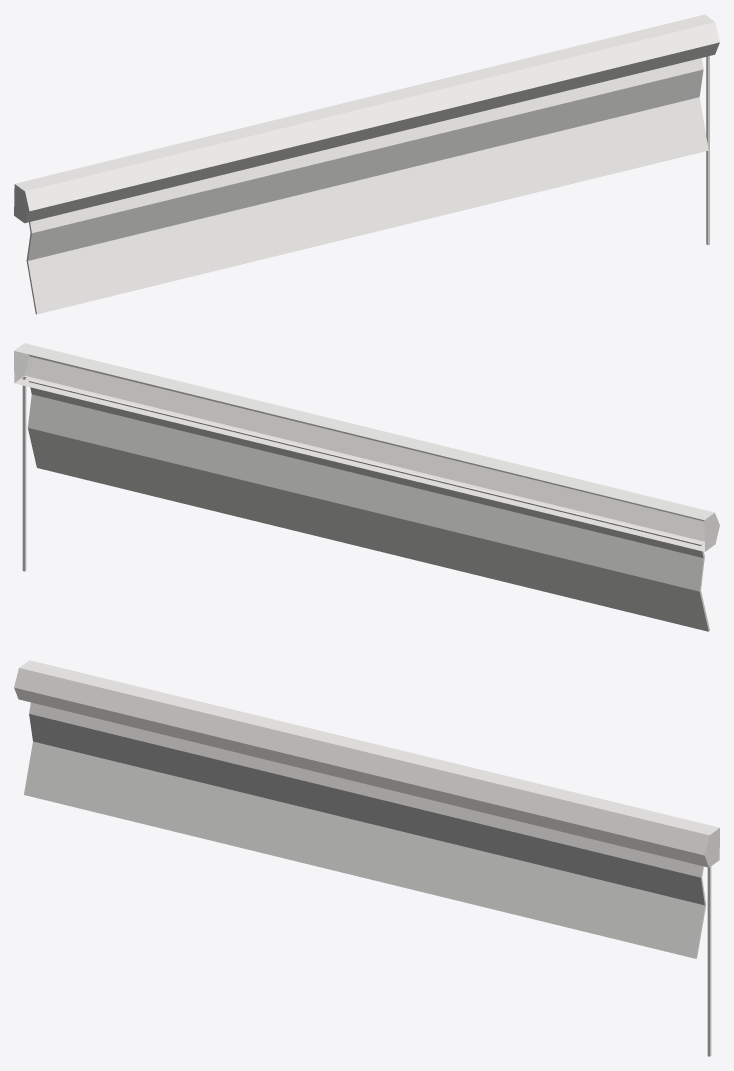
The model's file is Blinds_3.fbx.
The picture shows the model from 3 angles, top to bottom: view 1: azimuth 30°, elevation 25°; view 2: azimuth 150°, elevation 25°; view 3: azimuth 330°, elevation 25°; orthographic projection.
Visible parts, largest first — view 1: Blinds_3; view 2: Blinds_3; view 3: Blinds_3.
Boxes of the visible parts, x1,y1,x2,y2 form: Blinds_3: (14, 14, 719, 314); Blinds_3: (14, 343, 719, 631); Blinds_3: (14, 660, 719, 1056).
Bounding box in the file's own units: 366 × 14 × 113.
